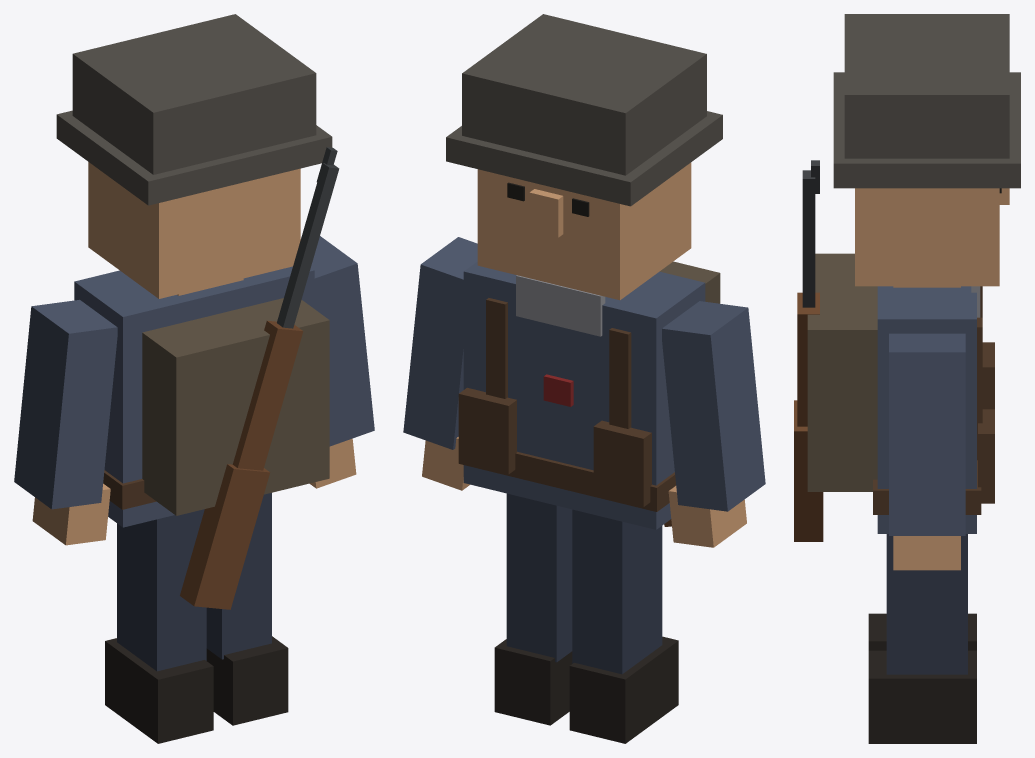
File: Soldado enemigo.obj
3 views of the same model, side by side, from view 1: azimuth 30°, elevation 25°; view 2: azimuth 150°, elevation 25°; view 3: azimuth 270°, elevation 25° (orthographic). The views are drawn at different scales.
Parts seen in each view (by area): view 1: Mochila, Casco_Copa, Cabeza, Brazo_Izquierdo, Torso_Uniforme, Pierna_Izquierda, Casco_Visera, Brazo_Derecho, Bota_Izquierda, Fusil_Culata, Pierna_Derecha, Bota_Derecha (+5 smaller); view 2: Casco_Copa, Torso_Uniforme, Cabeza, Brazo_Izquierdo, Pierna_Izquierda, Pierna_Derecha, Brazo_Derecho, Casco_Visera, Bota_Izquierda, Bota_Derecha, Cartuchera_Izq, Cartuchera_Der (+9 smaller); view 3: Casco_Copa, Brazo_Derecho, Mochila, Cabeza, Pierna_Derecha, Torso_Uniforme, Bota_Derecha, Casco_Visera, Fusil_Culata, Mano_Derecha, Fusil_Canon, Fusil_Cuerpo (+5 smaller).
Part boxes in pixels (x1,y1,x2,y2): Mochila: [142, 298, 329, 515]; Casco_Copa: [72, 14, 316, 174]; Cabeza: [88, 162, 300, 298]; Brazo_Izquierdo: [14, 299, 117, 509]; Torso_Uniforme: [74, 266, 314, 527]; Pierna_Izquierda: [117, 509, 206, 671]; Casco_Visera: [56, 110, 332, 205]; Brazo_Derecho: [311, 236, 374, 446]; Bota_Izquierda: [105, 638, 213, 743]; Fusil_Culata: [180, 464, 270, 609]; Pierna_Derecha: [206, 493, 271, 659]; Bota_Derecha: [206, 636, 288, 725]; Casco_Copa: [462, 14, 706, 175]; Torso_Uniforme: [463, 261, 705, 529]; Cabeza: [477, 162, 691, 300]; Brazo_Izquierdo: [662, 301, 765, 511]; Pierna_Izquierda: [572, 509, 662, 674]; Pierna_Derecha: [506, 493, 572, 662]; Brazo_Derecho: [403, 237, 477, 449]; Casco_Visera: [446, 111, 722, 206]; Bota_Izquierda: [569, 636, 678, 743]; Bota_Derecha: [494, 639, 572, 725]; Cartuchera_Izq: [593, 420, 651, 507]; Cartuchera_Der: [458, 387, 516, 474]; Casco_Copa: [844, 14, 1009, 158]; Brazo_Derecho: [889, 333, 965, 535]; Mochila: [807, 253, 877, 491]; Cabeza: [855, 188, 999, 286]; Pierna_Derecha: [886, 534, 967, 674]; Torso_Uniforme: [877, 286, 976, 533]; Bota_Derecha: [868, 650, 976, 743]; Casco_Visera: [833, 72, 1020, 188]; Fusil_Culata: [794, 400, 823, 541]; Mano_Derecha: [893, 536, 960, 570]; Fusil_Canon: [802, 170, 815, 307]; Fusil_Cuerpo: [797, 292, 819, 426].
Bounding box in the file's own units: 1.05 × 2.01 × 0.6281.
Materials: 1 (1 with a texture image).
